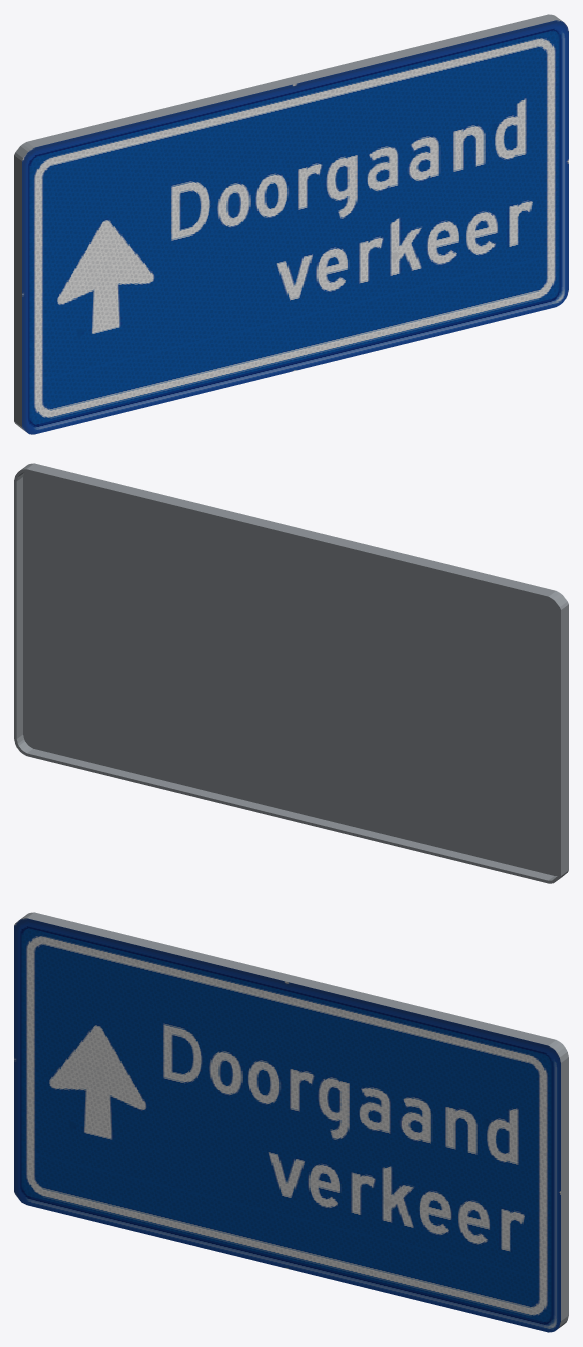
3 views of the same model, one above another, from view 1: azimuth 30°, elevation 25°; view 2: azimuth 150°, elevation 25°; view 3: azimuth 330°, elevation 25° (orthographic).
Visible parts, largest first — view 1: cat_ce67ae88380ac0fa; view 2: cat_ce67ae88380ac0fa; view 3: cat_ce67ae88380ac0fa.
Boxes of the visible parts, x1=… form: cat_ce67ae88380ac0fa: x1=14, y1=14, x2=568, y2=434; cat_ce67ae88380ac0fa: x1=14, y1=463, x2=568, y2=883; cat_ce67ae88380ac0fa: x1=14, y1=912, x2=568, y2=1332.
Bounding box in the file's own units: 0.6 × 0.015 × 0.3007.
2 materials, 1 textured.
